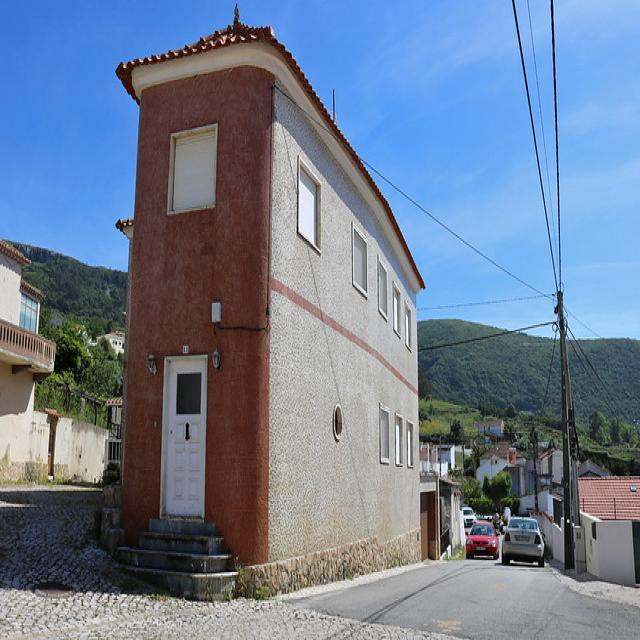Normal_building: (108, 16, 428, 588)
